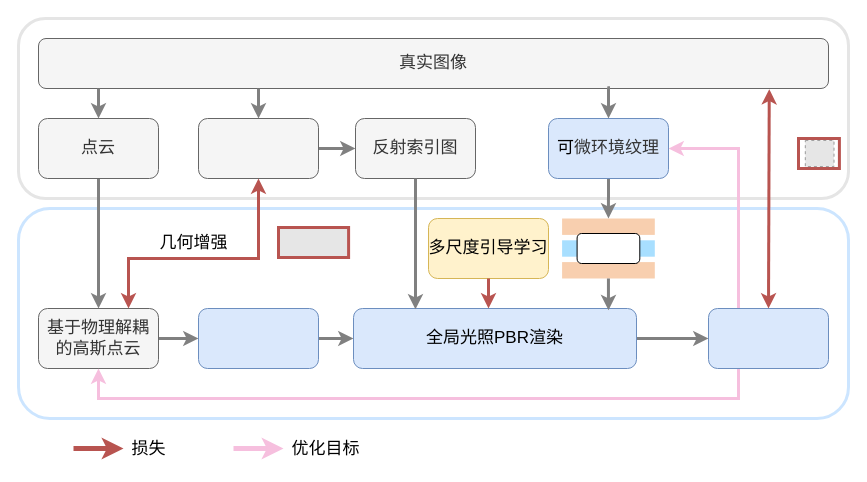
Some shapes in this 867 by 482 pixel diagram are drawn without their labels. Grey dashed boxes stand in for pictures. Here are the shapes that lost their labels. From the top down, the centre of each, then its label:
pixel 258 148: 深度先验
pixel 608 248: MLP
pixel 258 338: 材质纹理
pixel 768 338: 渲染结果
